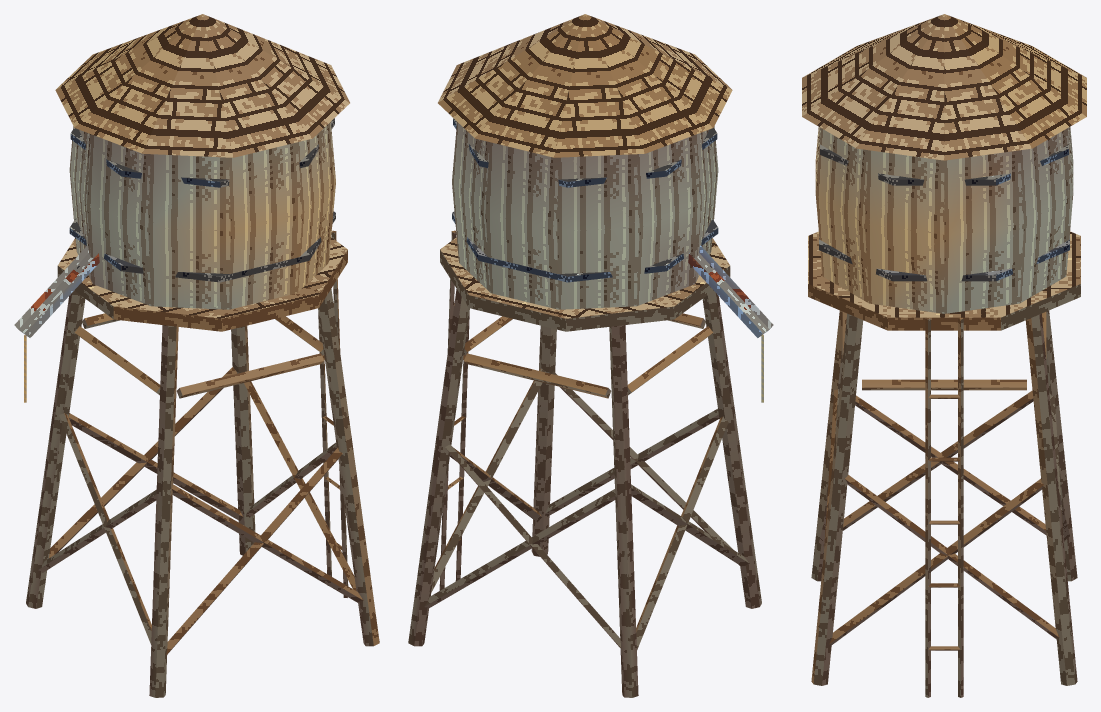
Rendered from wtown.water_tower.glb.
The picture shows the model from 3 angles, left to right: view 1: azimuth 30°, elevation 25°; view 2: azimuth 150°, elevation 25°; view 3: azimuth 270°, elevation 25°; orthographic projection.
Parts seen in each view (by area): view 1: kit_tank, kit_cap, kit_legs, kit_bracing, kit_bracing_x, kit_deck, kit_girts, kit_hoops, kit_spout, kit_ladder; view 2: kit_tank, kit_cap, kit_legs, kit_bracing_x, kit_bracing, kit_deck, kit_girts, kit_hoops, kit_spout, kit_ladder; view 3: kit_tank, kit_cap, kit_legs, kit_deck, kit_bracing_x, kit_bracing, kit_ladder, kit_hoops, kit_girts, kit_rungs.
Boxes of the visible parts, x1,y1,x2,y2 form: kit_tank: (69,122,335,309); kit_cap: (55,14,349,157); kit_legs: (26,289,379,697); kit_bracing: (38,381,356,654); kit_bracing_x: (49,367,363,644); kit_deck: (57,237,347,331); kit_girts: (74,313,324,398); kit_hoops: (69,118,335,282); kit_spout: (14,245,99,337); kit_ladder: (318,230,348,597); kit_tank: (452,122,718,309); kit_cap: (438,14,732,157); kit_legs: (408,289,761,697); kit_bracing_x: (431,368,749,648); kit_bracing: (424,371,739,649); kit_deck: (440,237,730,331); kit_girts: (463,313,713,398); kit_hoops: (452,118,718,282); kit_spout: (688,245,773,337); kit_ladder: (439,230,469,590); kit_tank: (815,127,1073,313); kit_cap: (802,14,1086,160); kit_legs: (811,310,1077,685); kit_deck: (808,231,1080,330); kit_bracing_x: (824,389,1069,639); kit_bracing: (819,393,1063,644); kit_ladder: (925,317,963,697); kit_hoops: (819,144,1069,281); kit_girts: (842,312,1046,390); kit_rungs: (928,394,960,650).
Bounding box in the file's own units: 5.69 × 10.37 × 4.34.
Materials: 7 (7 with a texture image).
